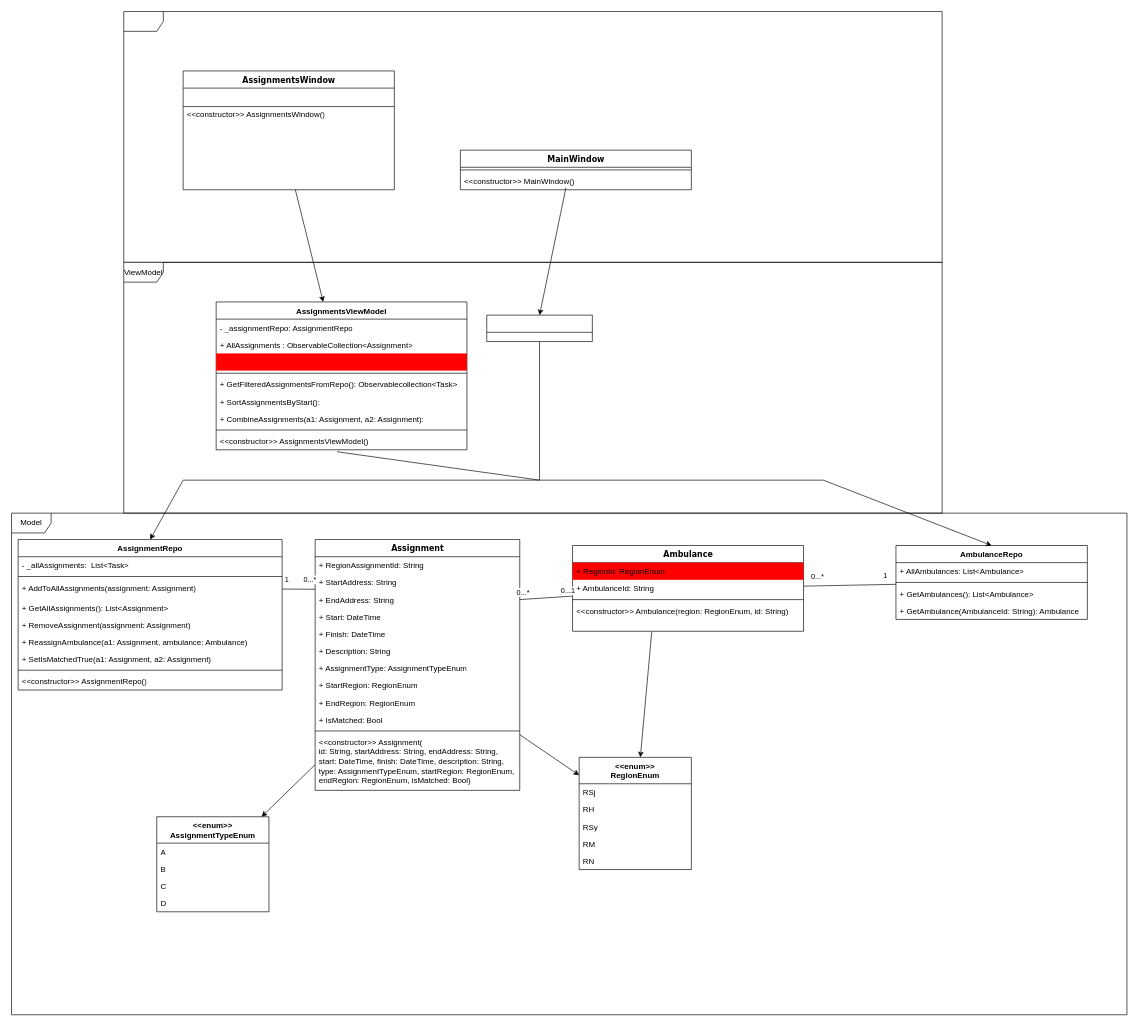
The diagram is 1139 pixels wide and 1026 high, and some of its shapes have lost their labels. The shapes that lost their labels are listed below. From the top down, each one's centre as x and y in pixels, then its label:
At pixel 532 136: "View".
At pixel 539 328: "MainViewModel".
At pixel 341 361: "+ AllAmbulances: ObservableCollection<Ambulance>".
